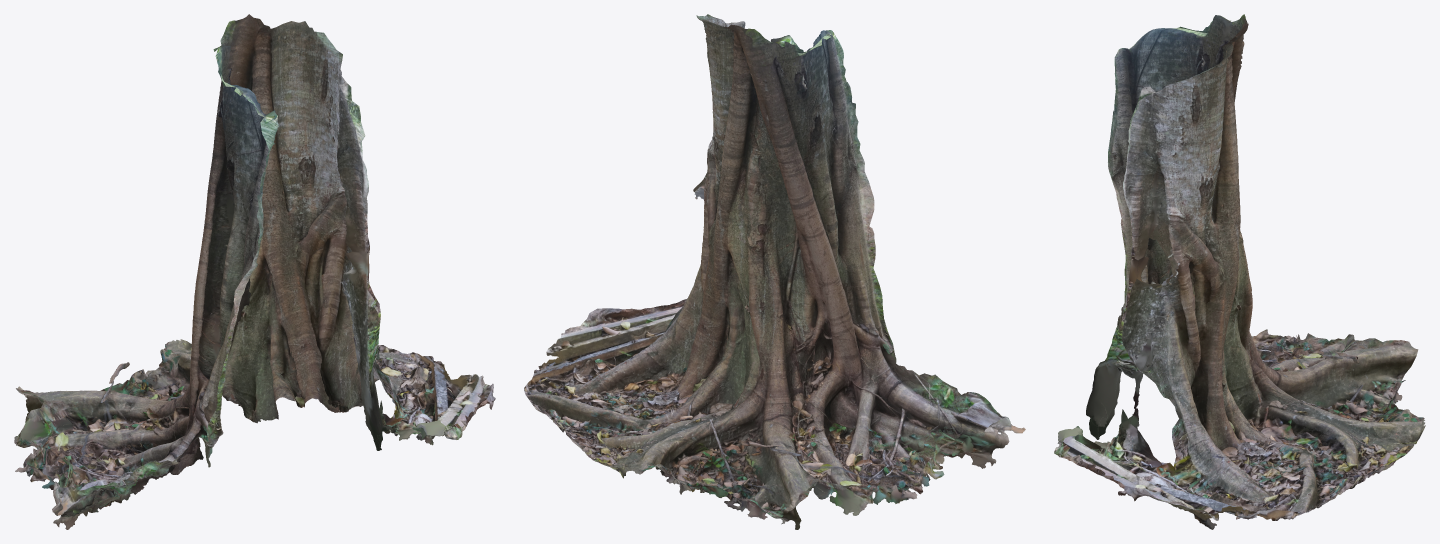
File: jungle_tree.glb
3 views of the same model, side by side, from view 1: azimuth 30°, elevation 25°; view 2: azimuth 150°, elevation 25°; view 3: azimuth 270°, elevation 25° (orthographic). The views are drawn at different scales.
Parts seen in each view (by area): view 1: Model; view 2: Model; view 3: Model.
Part boxes in pixels (x1=…): Model: x1=14, y1=14, x2=495, y2=529; Model: x1=524, y1=14, x2=1025, y2=529; Model: x1=1054, y1=14, x2=1425, y2=529.
Size of the model in its own units: 3.22 by 2.93 by 2.31.
2 materials, 2 textured.
